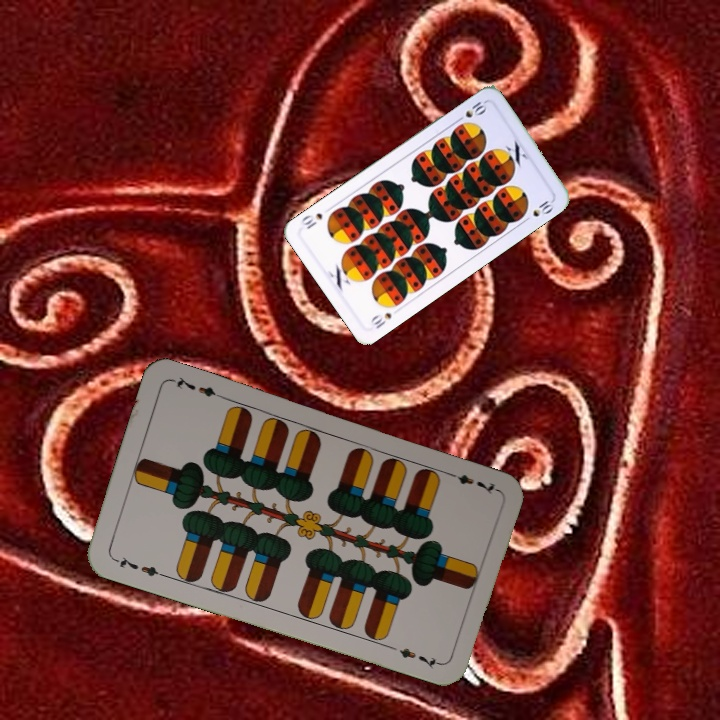E7: (442, 467, 499, 497), (110, 552, 167, 580)
S10: (452, 97, 490, 125), (366, 308, 394, 331)
